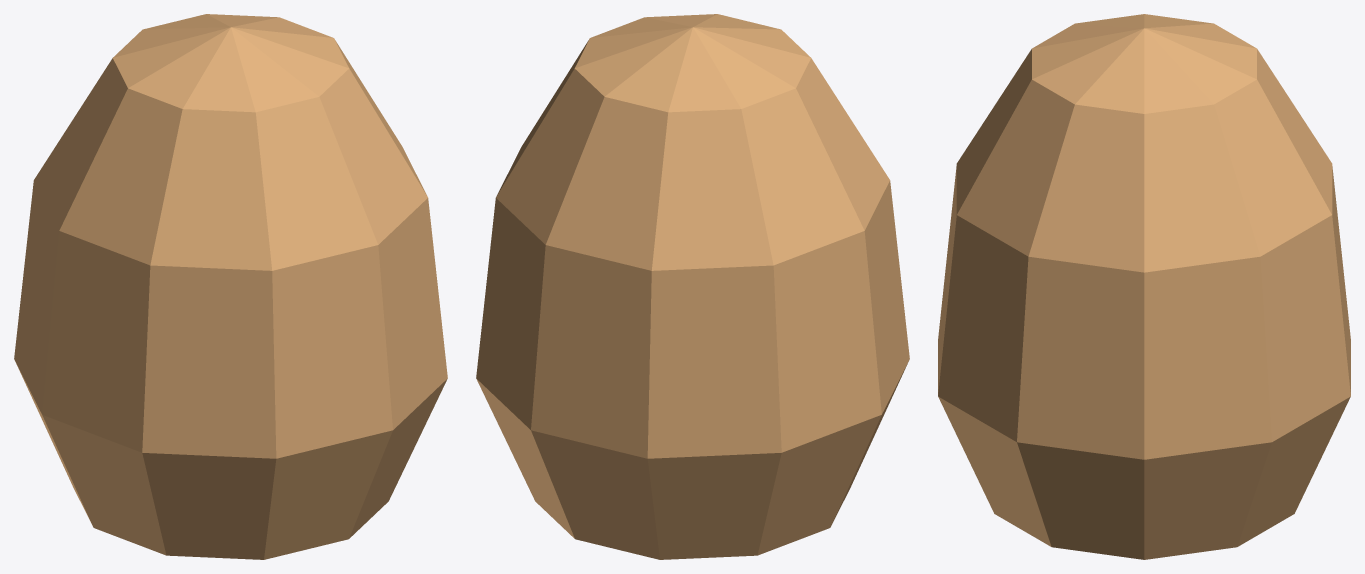
The model's file is egg.obj.
The picture shows the model from 3 angles, left to right: view 1: azimuth 30°, elevation 25°; view 2: azimuth 150°, elevation 25°; view 3: azimuth 270°, elevation 25°; orthographic projection.
Parts seen in each view (by area): view 1: egg; view 2: egg; view 3: egg.
Boxes of the visible parts, left/top/right/bottom form: egg: left=14, top=14, right=447, bottom=559; egg: left=476, top=14, right=909, bottom=559; egg: left=938, top=14, right=1350, bottom=559.
Bounding box in the file's own units: 0.044 × 0.056 × 0.0418.
